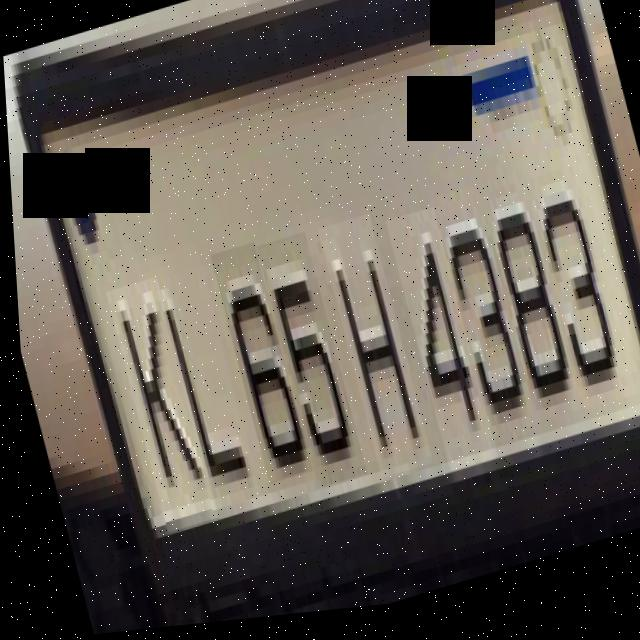3: (426, 192, 534, 458), (525, 182, 626, 423)
4: (382, 211, 492, 484)
5: (252, 234, 361, 498)
6: (207, 244, 307, 493)
8: (477, 187, 581, 440)
H: (314, 217, 428, 490)
K: (102, 276, 213, 541)
L: (144, 243, 255, 520)
